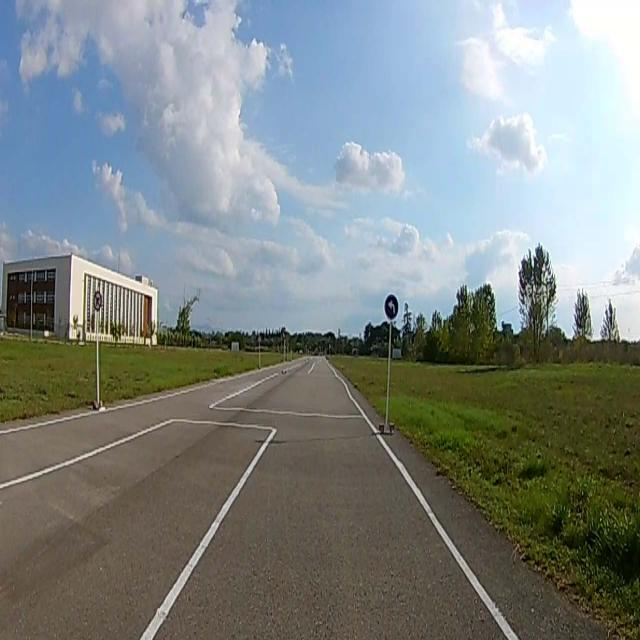sagadonulmez: (94, 290, 100, 310)
sol: (385, 294, 399, 320)
